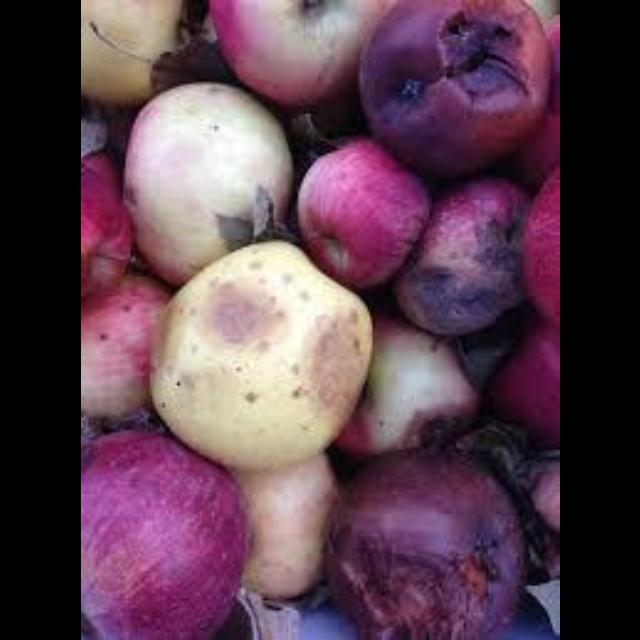apple: (149, 242, 369, 467), (325, 450, 522, 638), (80, 430, 246, 638), (122, 82, 290, 284), (359, 0, 547, 175), (394, 175, 527, 334), (335, 314, 475, 457), (297, 138, 428, 289), (208, 0, 391, 104)
